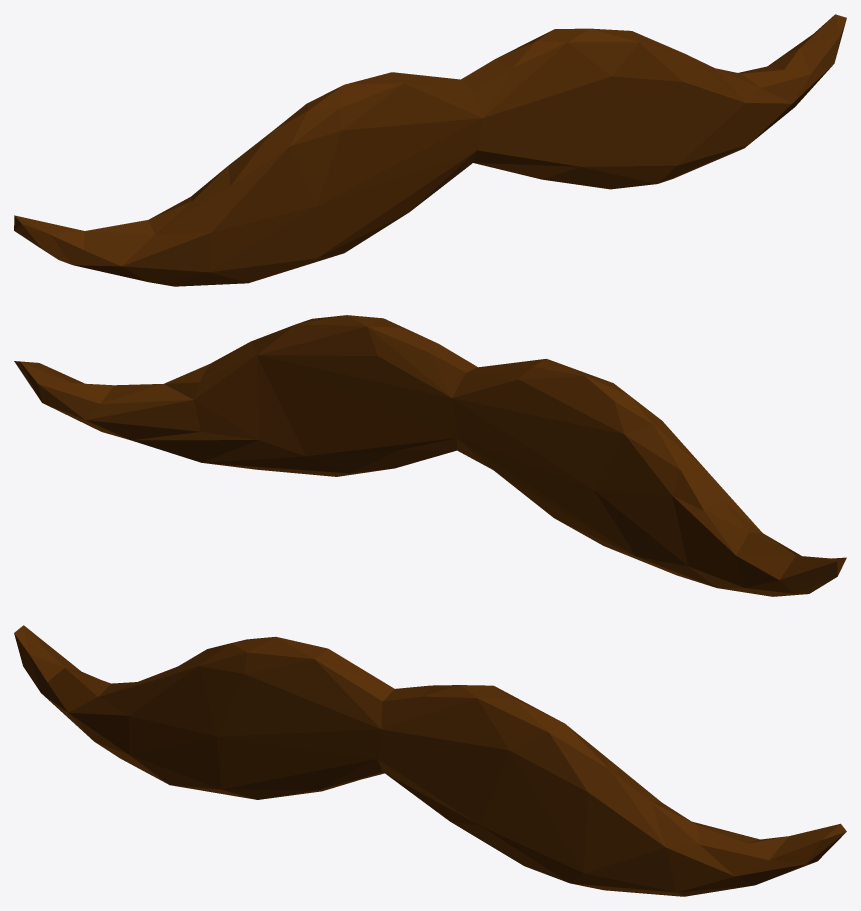
Rendered from Moustache1.glb.
3 views of the same model, one above another, from view 1: azimuth 30°, elevation 25°; view 2: azimuth 150°, elevation 25°; view 3: azimuth 330°, elevation 25° (orthographic).
Parts seen in each view (by area): view 1: Cube.004; view 2: Cube.004; view 3: Cube.004.
Boxes of the visible parts, <box> form: Cube.004: <box>14,14,846,286</box>; Cube.004: <box>14,315,846,596</box>; Cube.004: <box>14,625,846,896</box>.
Size of the model in its own units: 0.38 by 0.0766 by 0.045.
